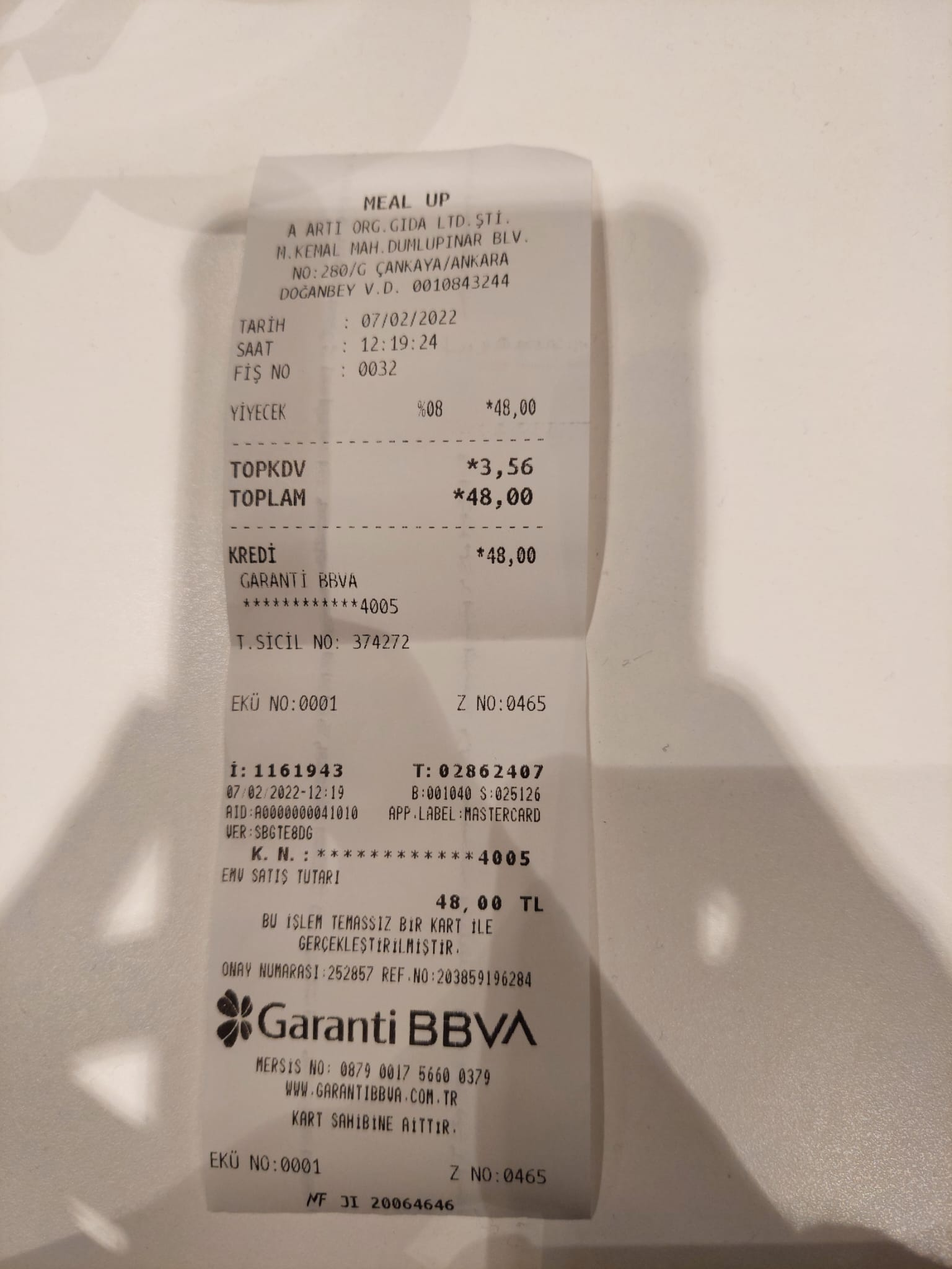date: (463, 477, 545, 517)
price: (356, 305, 462, 332)
workplace: (271, 183, 540, 279)
